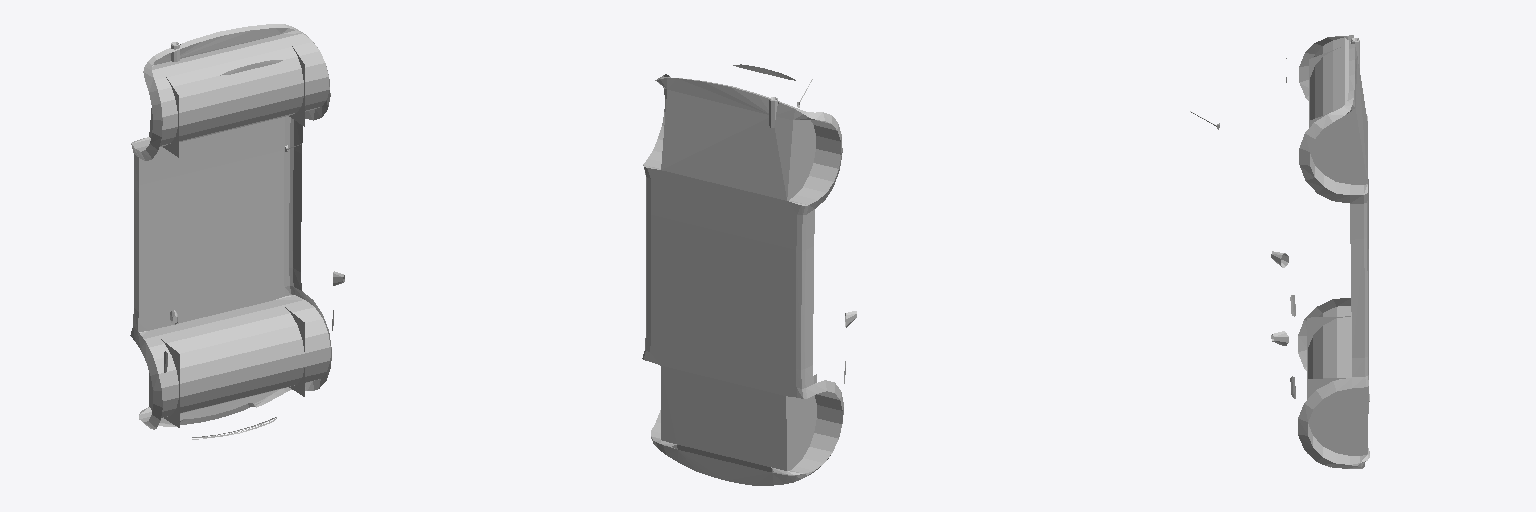
Rendered from mini_underpart.obj.
The picture shows the model from 3 angles: view 1: azimuth 30°, elevation 25°; view 2: azimuth 150°, elevation 25°; view 3: azimuth 270°, elevation 25°; orthographic projection.
Visible parts, largest first — view 1: default; view 2: default; view 3: default.
Part boxes in pixels (left/top/right/bottom): default: left=130, top=24, right=344, bottom=439; default: left=642, top=64, right=856, bottom=485; default: left=1190, top=35, right=1369, bottom=468.
Size of the model in its own units: 170 by 359 by 149.